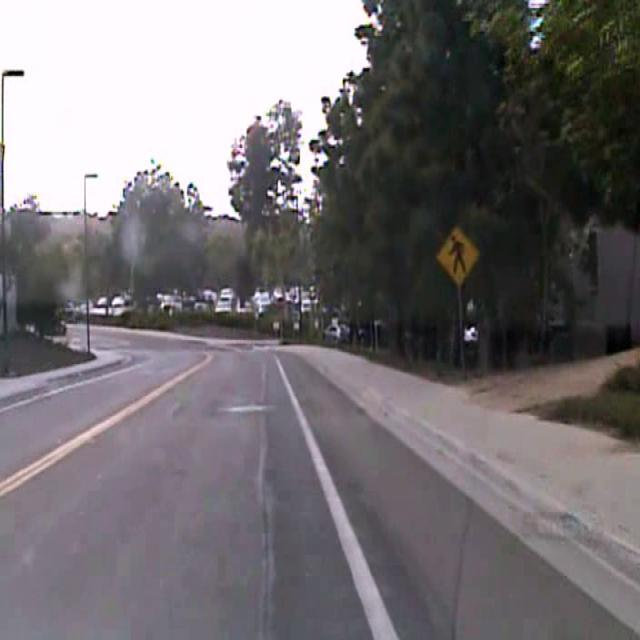pedestrianCrossing: (435, 223, 480, 285)
